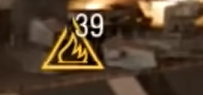1fire: (37, 37, 108, 72)
